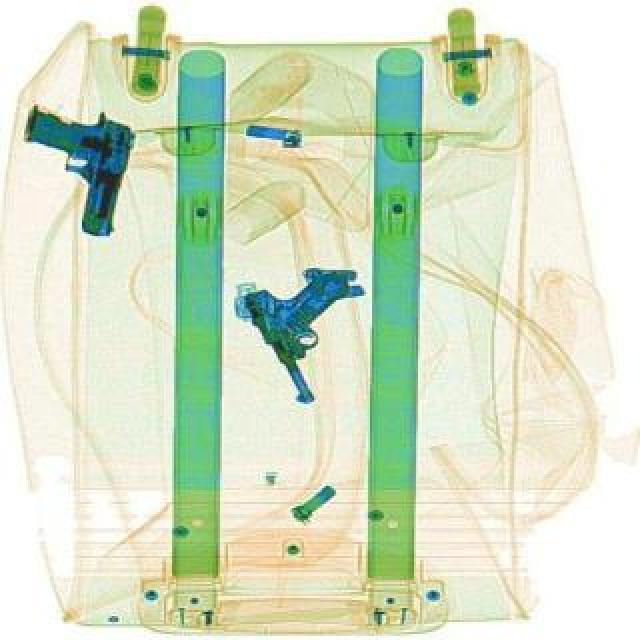gun: (238, 258, 386, 406), (4, 96, 132, 236)
